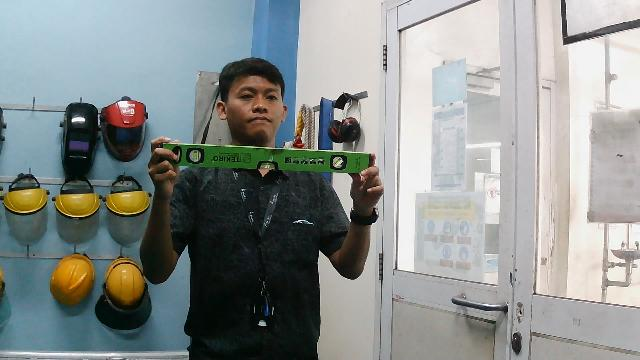water_pass: (153, 136, 373, 180)
